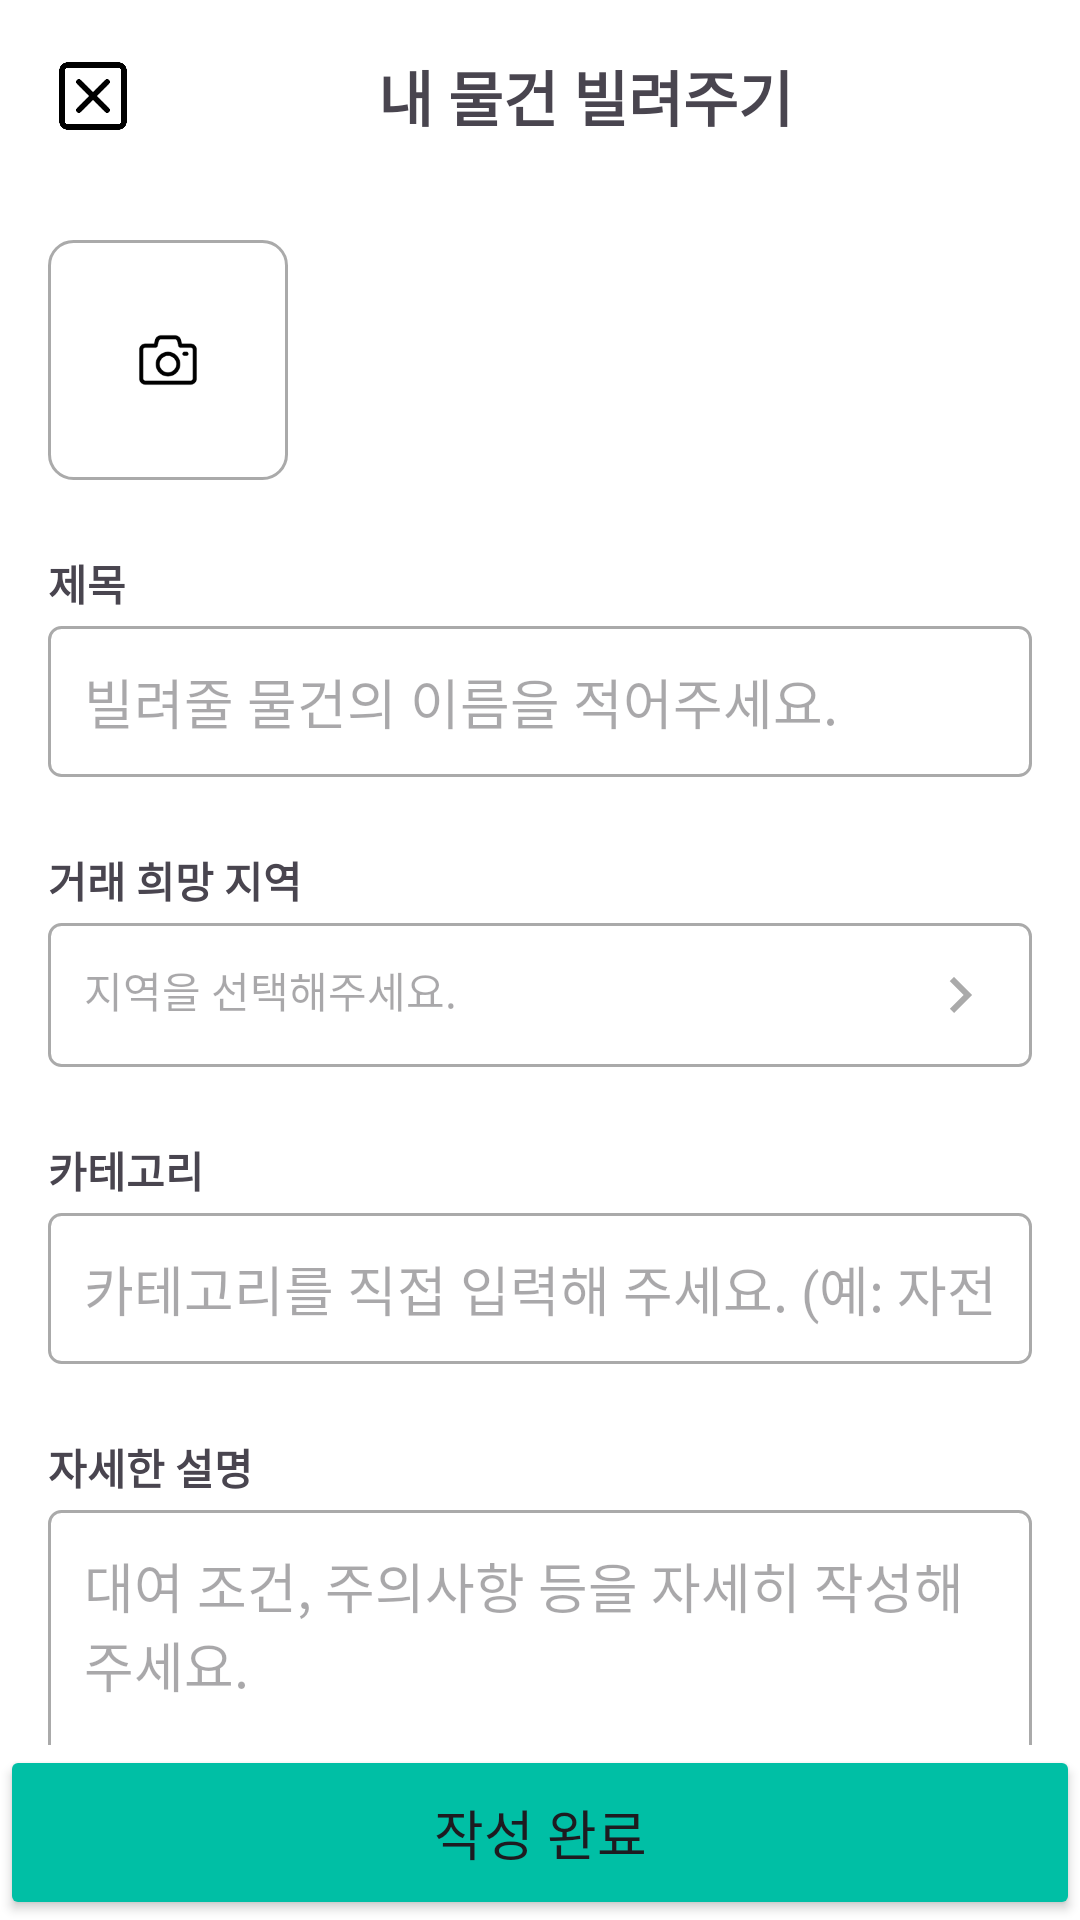

Icon bounding boxes for this 1080×1920 phone screenshot, format {"left": x1, "top": y1, "right": x2, "bottom": y2}:
닫기: {"left": 59, "top": 62, "right": 127, "bottom": 130}
카메라 아이콘: {"left": 139, "top": 335, "right": 197, "bottom": 385}
